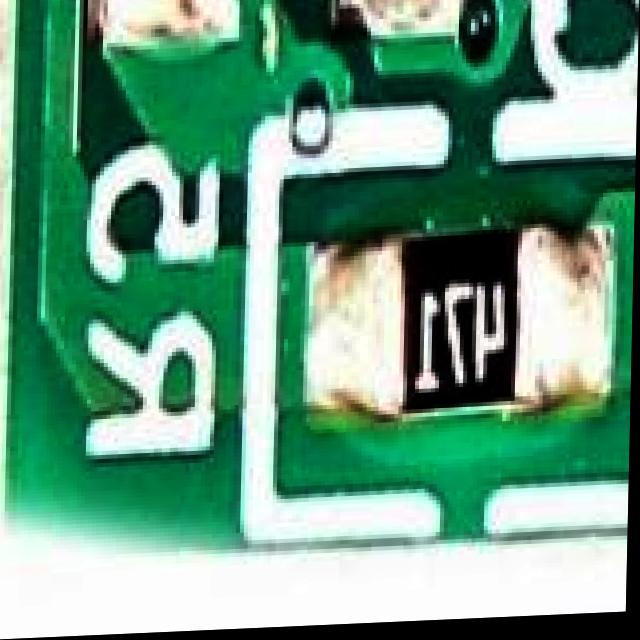potentiometer: (76, 0, 456, 25)
resistor: (360, 229, 586, 435)
